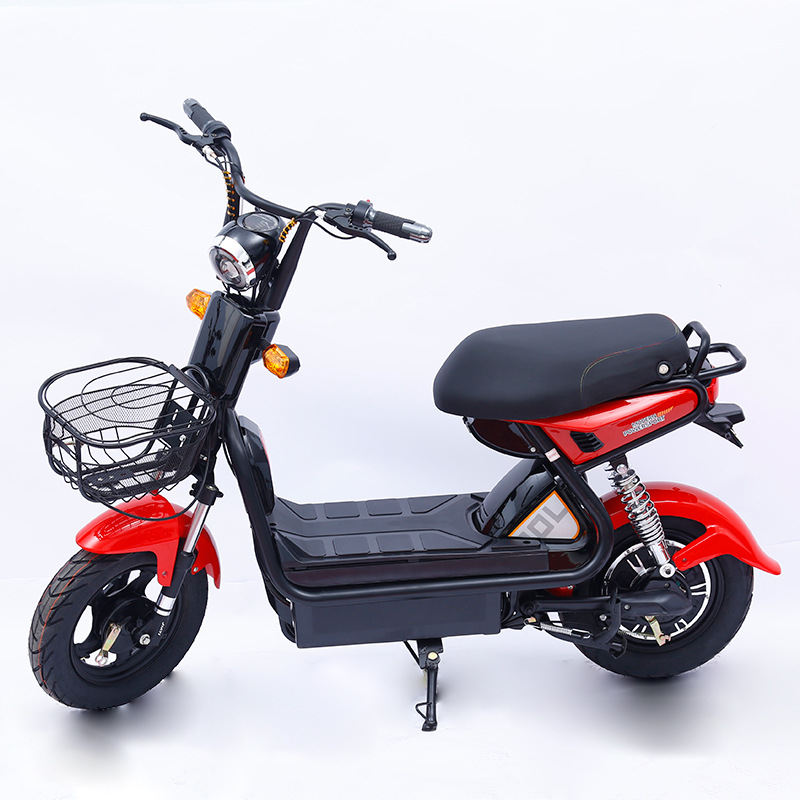MNV: (29, 102, 770, 709)
